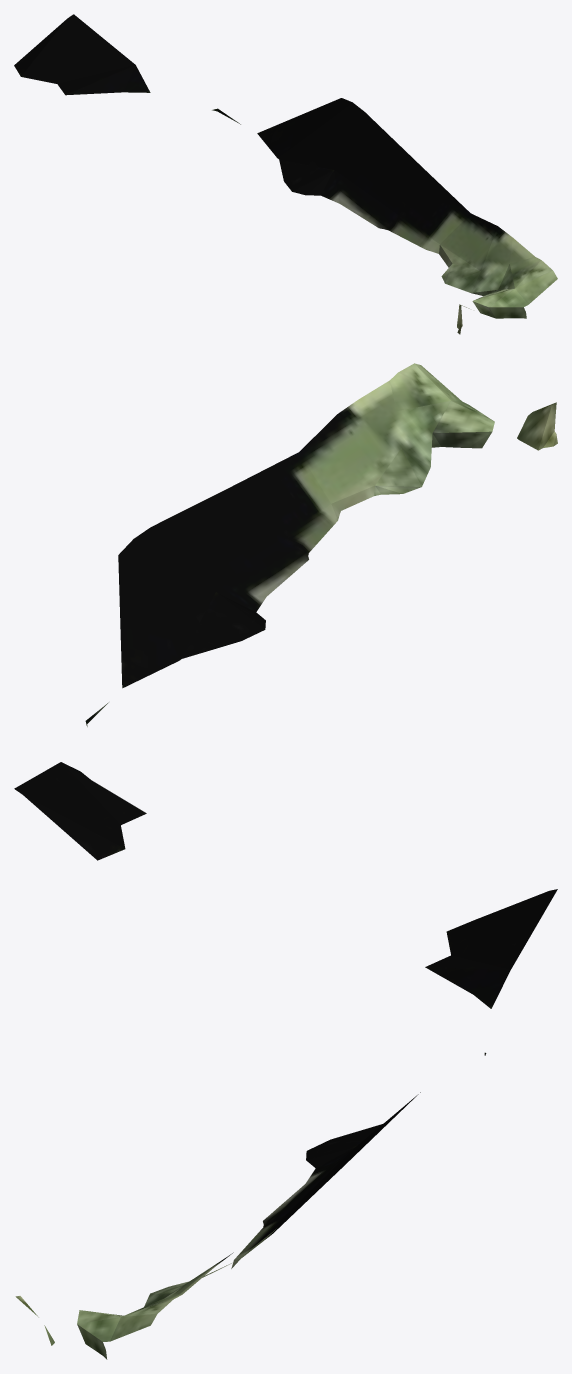
3 renders of one model, top to bottom at view 1: azimuth 30°, elevation 25°; view 2: azimuth 150°, elevation 25°; view 3: azimuth 330°, elevation 25°, orthographic. The views are drawn at different scales.
Size of the model in its own units: 11.45 by 3.92 by 47.19.
1 material, 1 textured.
